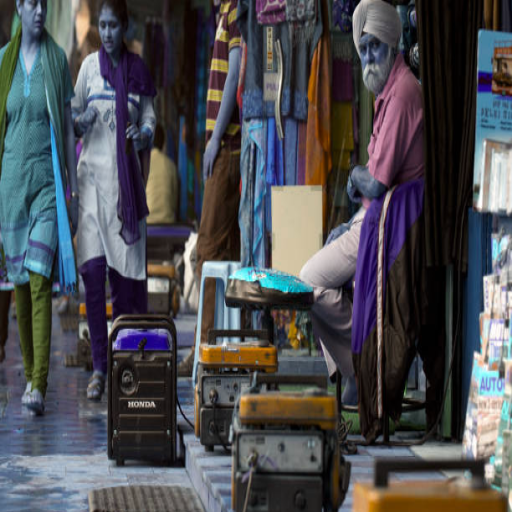portable_generator: (234, 373, 354, 512), (108, 314, 178, 463), (197, 329, 278, 448)
